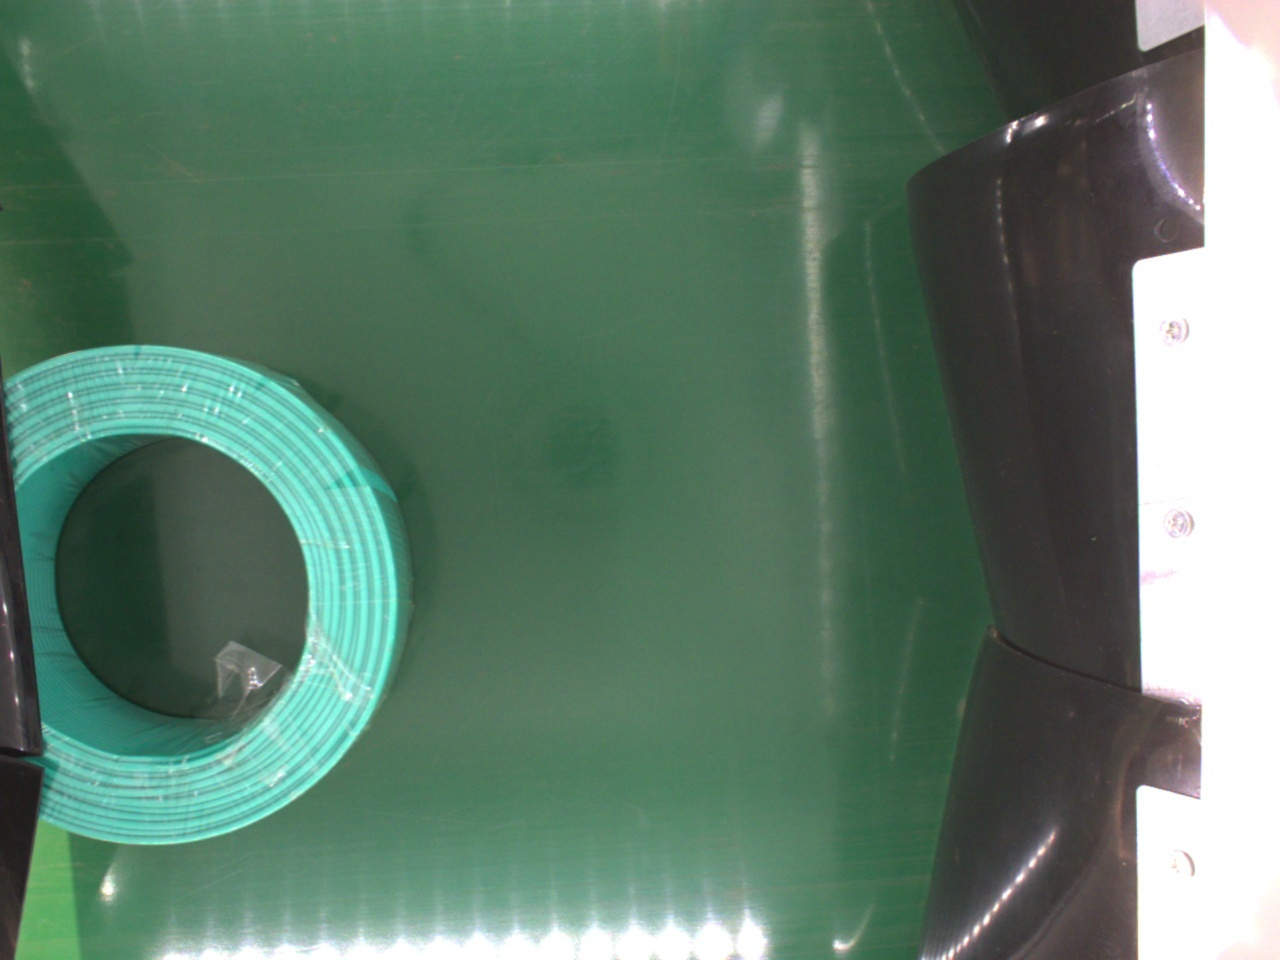green: (4, 343, 411, 849)
